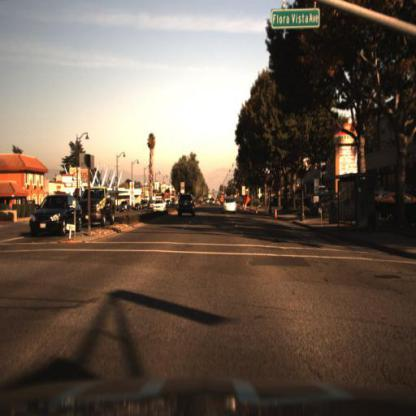car: (29, 190, 89, 240), (80, 186, 116, 232), (82, 184, 117, 226), (307, 186, 344, 221), (176, 194, 199, 221), (224, 198, 240, 218), (152, 198, 168, 217), (119, 200, 131, 215)
